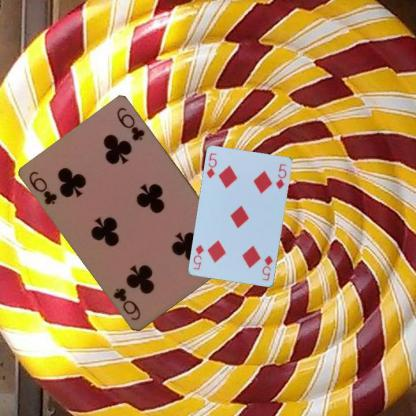5d: (259, 253, 274, 282), (204, 150, 218, 180)
6c: (27, 169, 59, 206)
